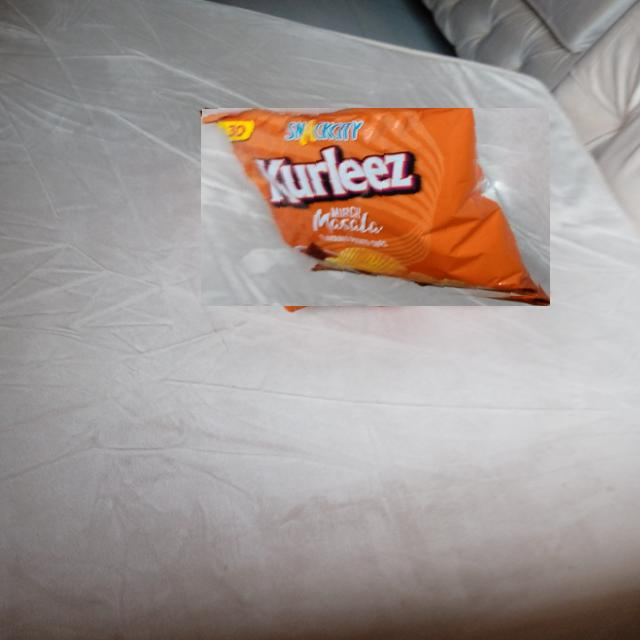Plastic: (201, 108, 550, 306)
